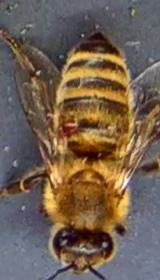varroa_mite: (51, 109, 84, 142)
